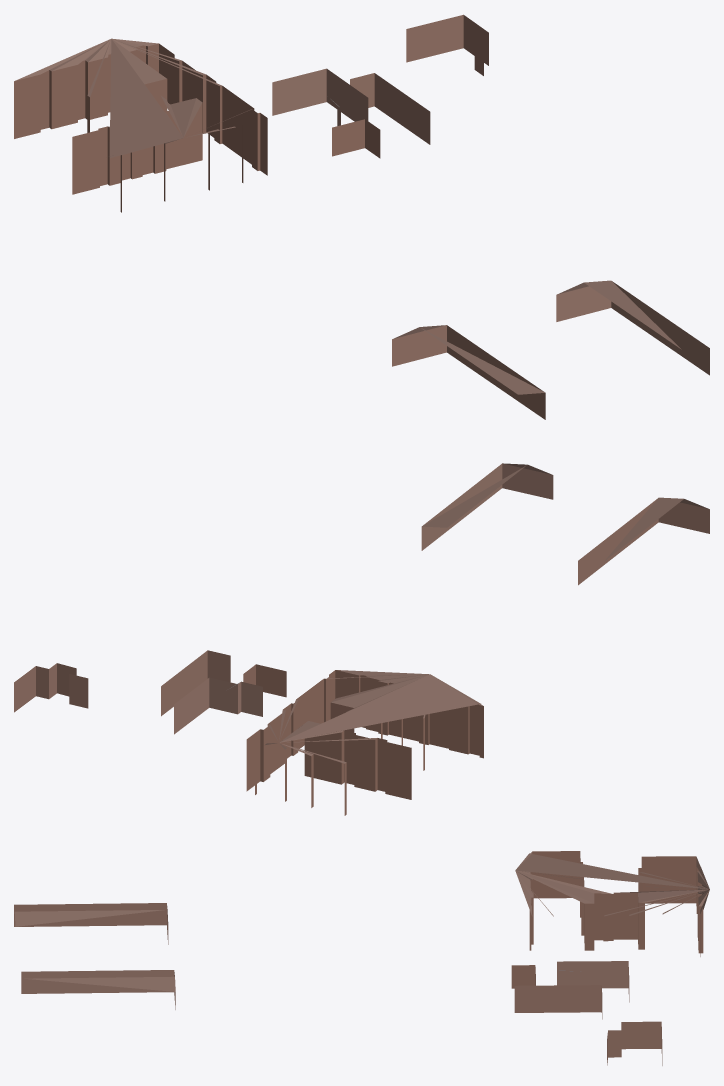
Rendered from c_1630_17837_buildings_residential.glb.
The picture shows the model from 3 angles, top to bottom: view 1: azimuth 30°, elevation 25°; view 2: azimuth 150°, elevation 25°; view 3: azimuth 270°, elevation 25°; orthographic projection. The views are drawn at different scales.
Parts seen in each view (by area): view 1: geometry_0; view 2: geometry_0; view 3: geometry_0.
Part boxes in pixels (x1=…): geometry_0: x1=14, y1=14, x2=709, y2=419; geometry_0: x1=14, y1=463, x2=709, y2=815; geometry_0: x1=14, y1=851, x2=709, y2=1065.
Size of the model in its own units: 152 by 23.04 by 255.
